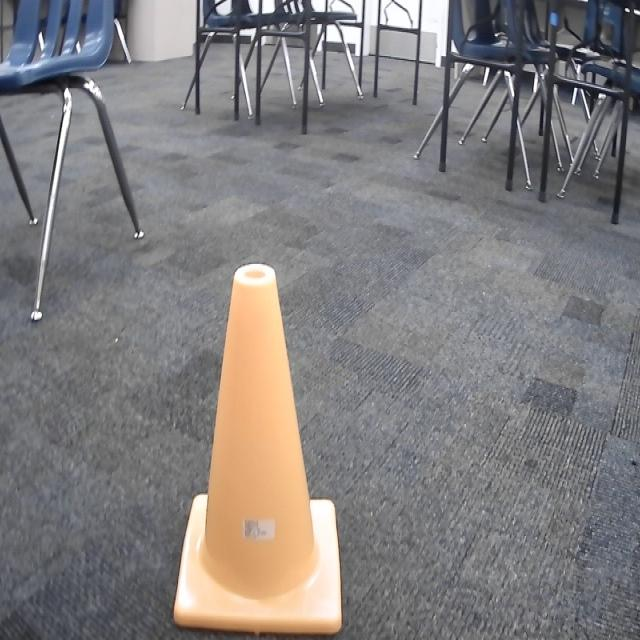cone: (174, 262, 343, 638)
